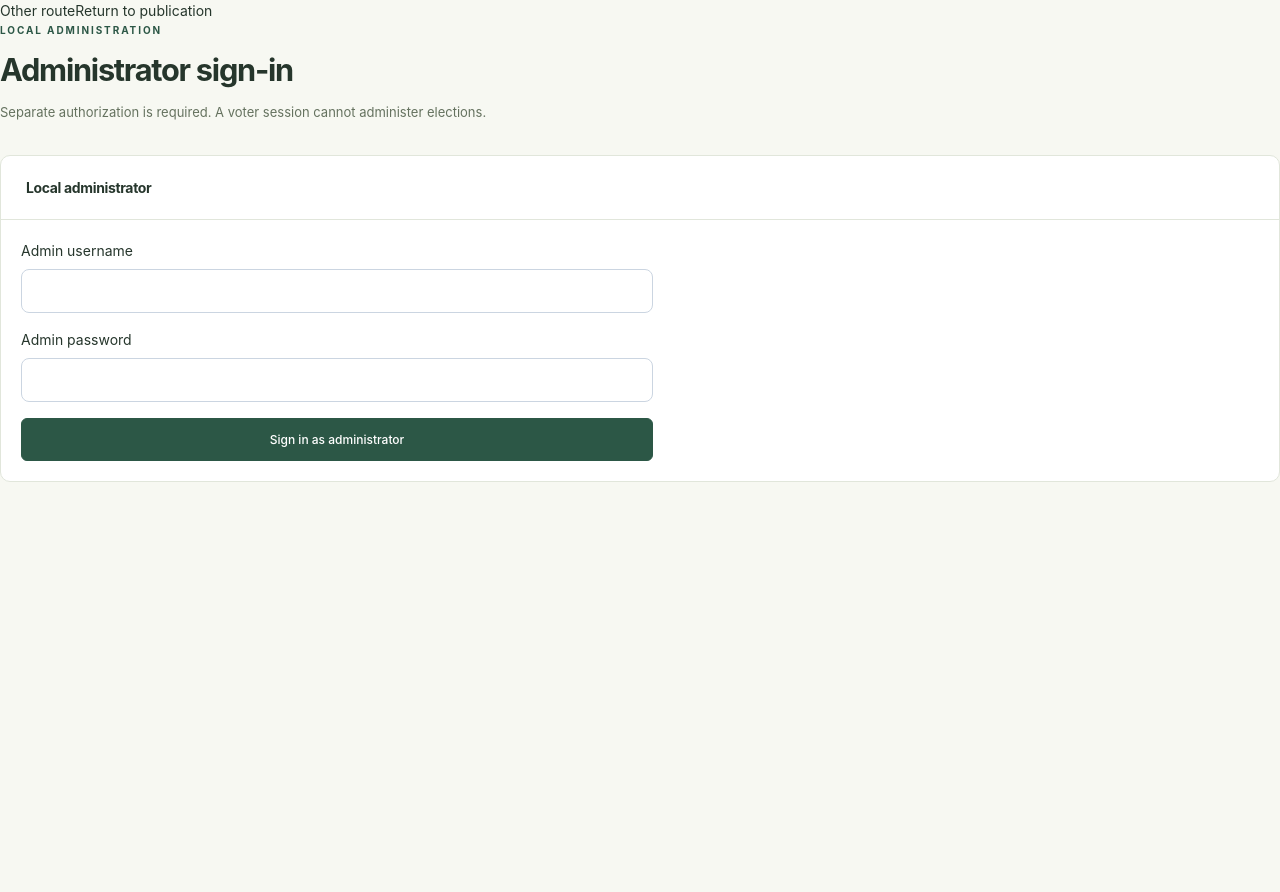
Test: refreshes committed state after response loss without retry and links to public verification
The width and height of the screenshot is (1280, 892).
expect the button "Publish results" is not shown: met
Submit the form "Sign in as administrator", box [1,220,673,481]
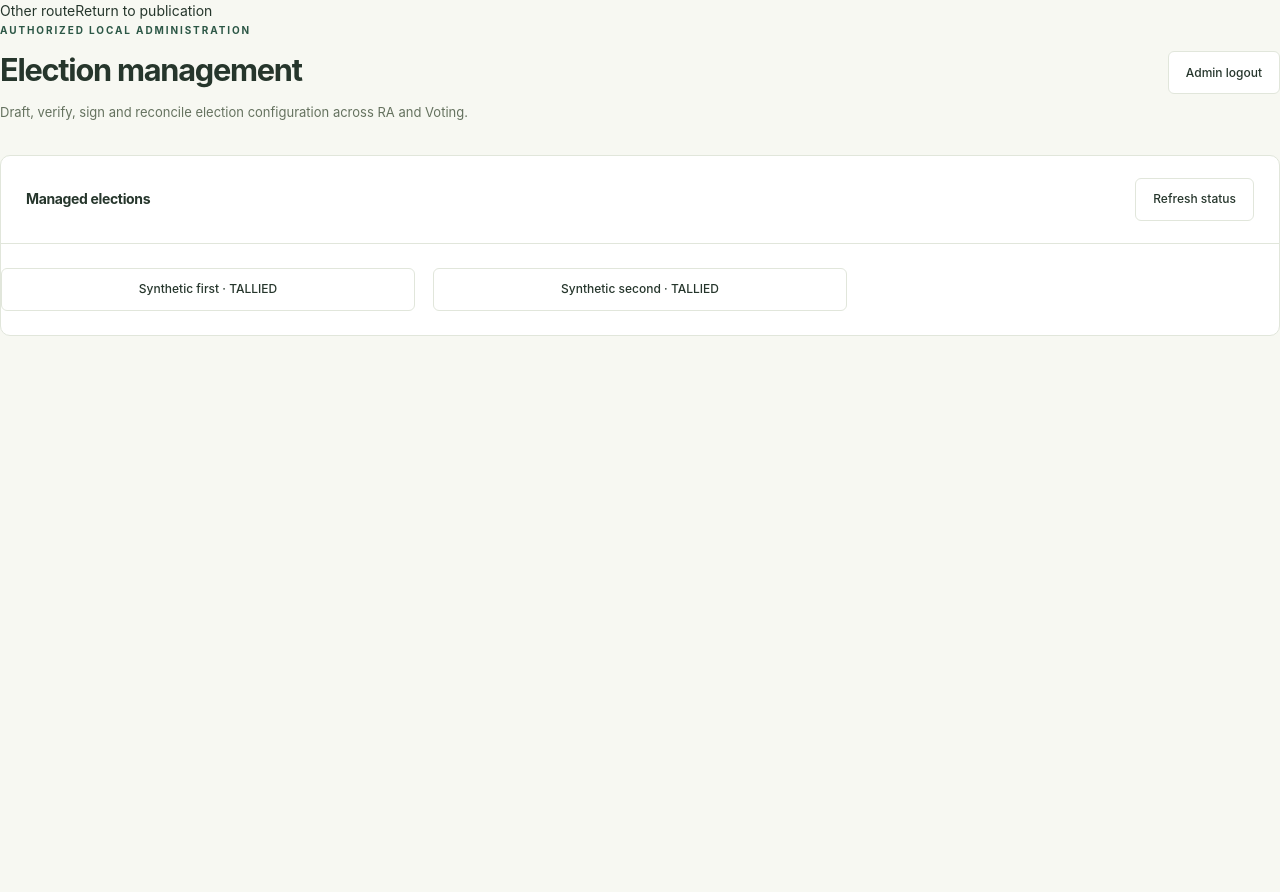
Click the button "Synthetic first · TALLIED" at (208, 289), box [1,268,415,311]
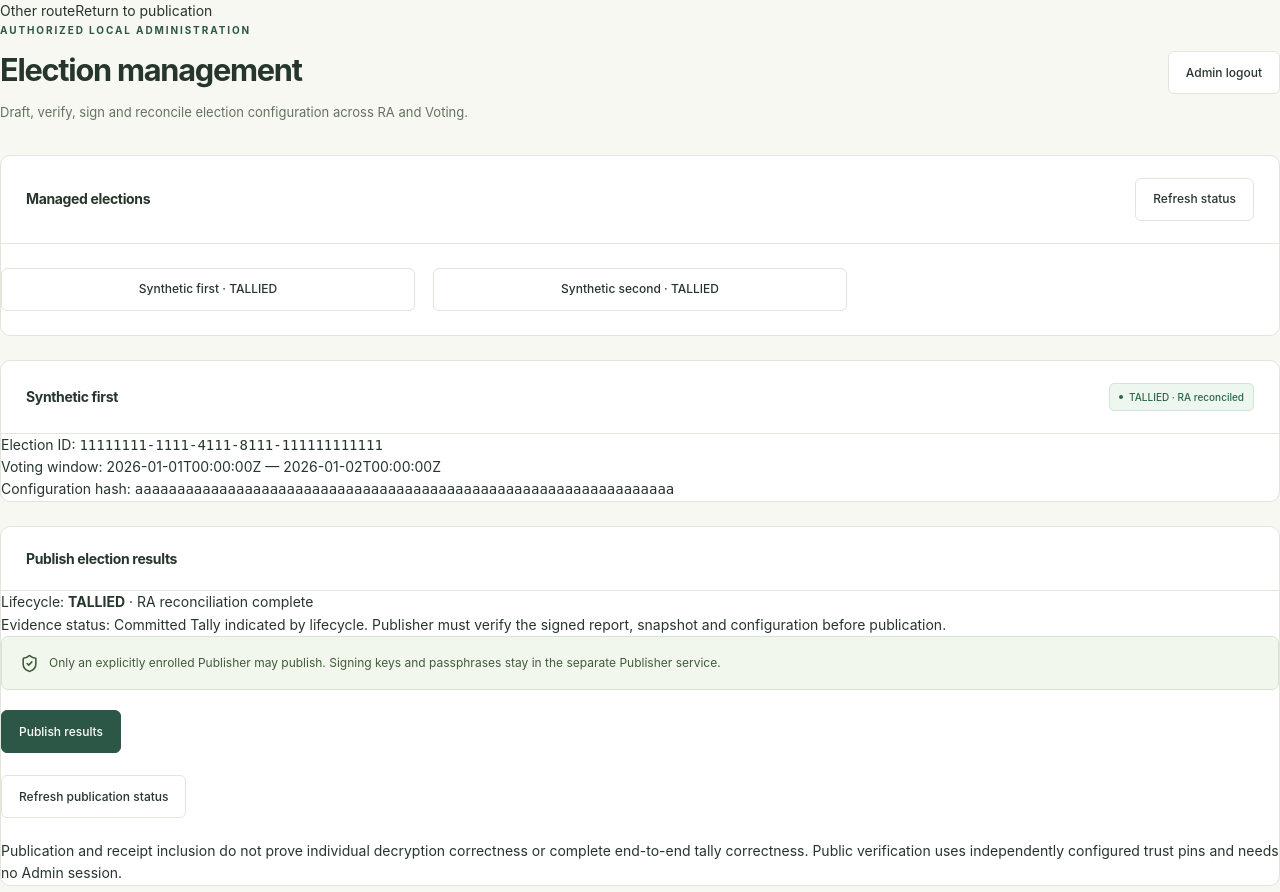
expect the heading "Publish election results" is shown: met, box [26,549,177,568]
expect the button "Refresh publication status" is enabled: met, box [1,775,186,818]
Click the button "Publish results" at (61, 731), box [1,710,121,753]
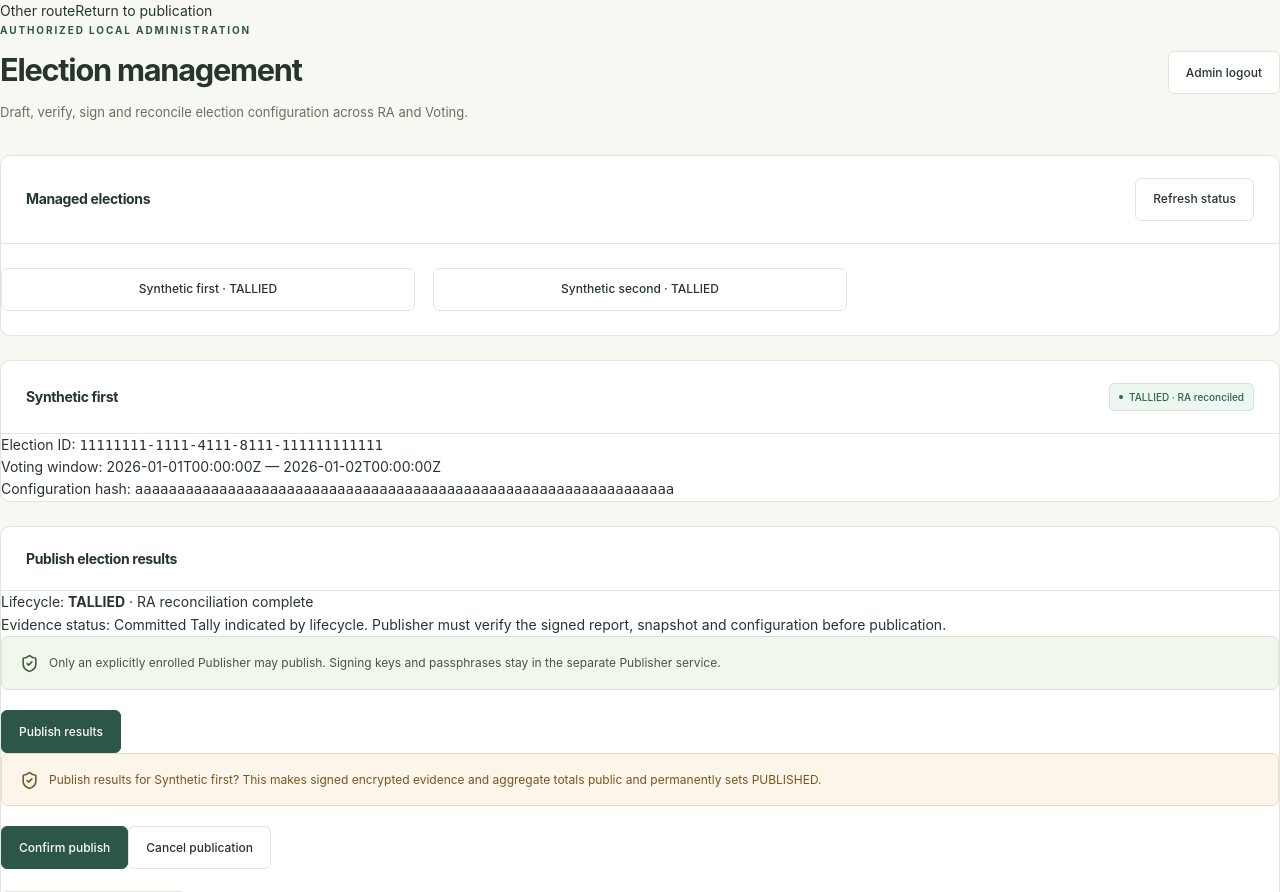
Click the button "Confirm publish" at (65, 848), box [1,826,128,869]
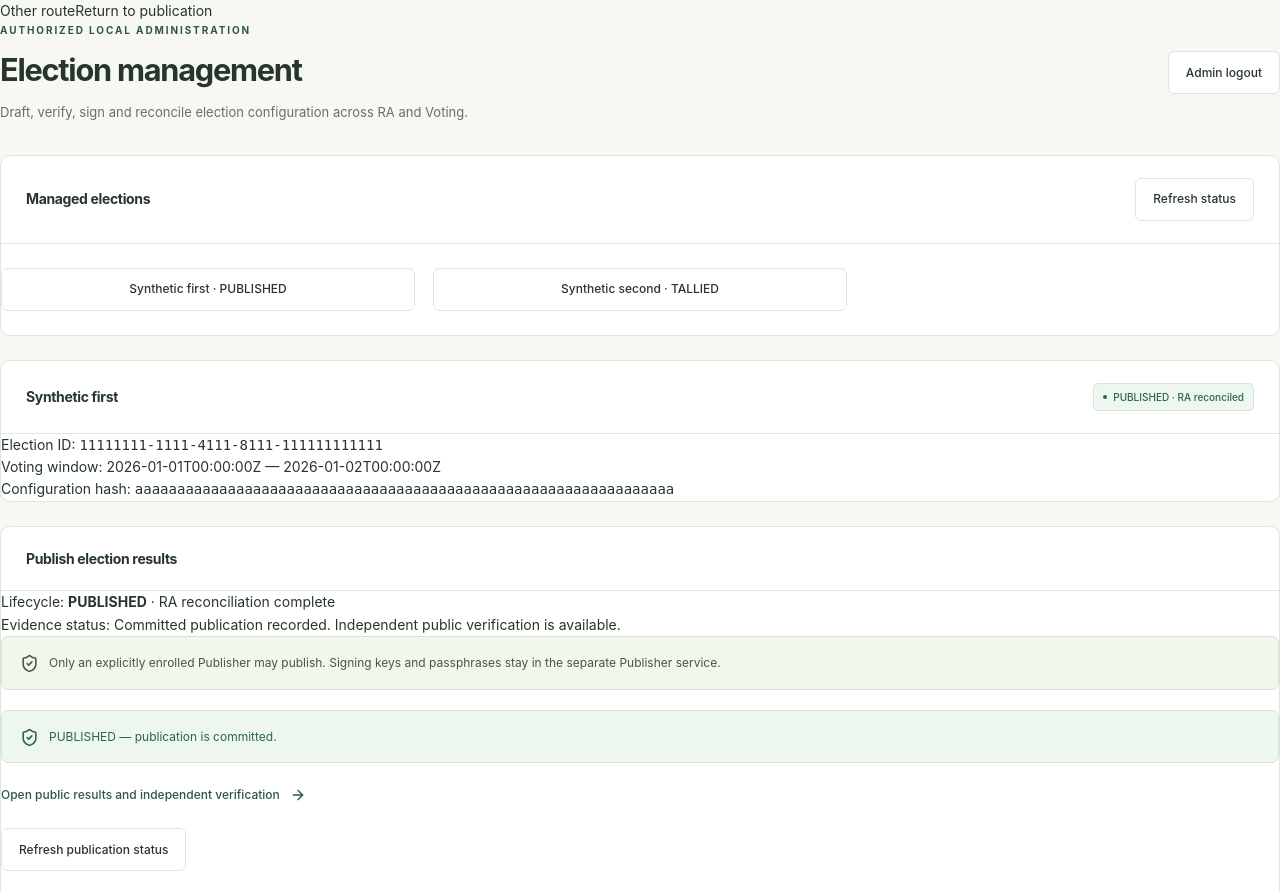
expect the text "PUBLISHED — publication is committed." is shown: met, box [49,726,277,747]
